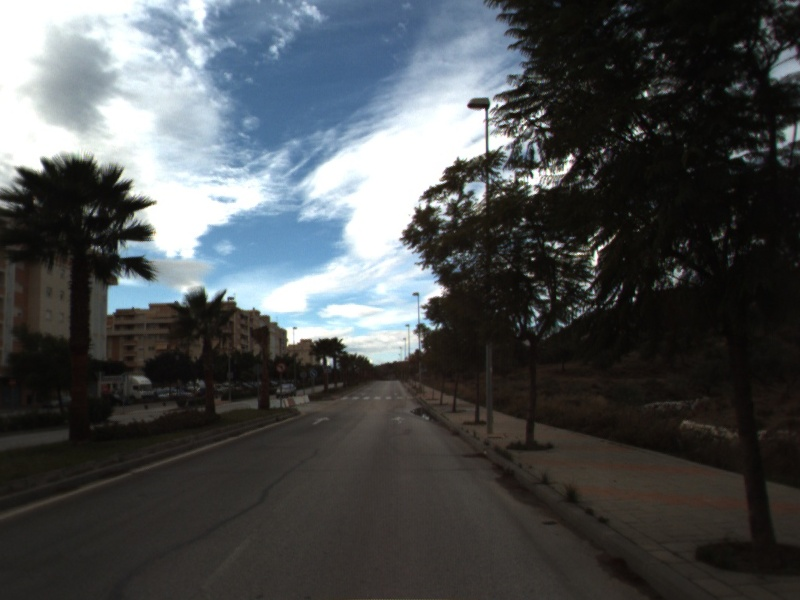STRAIGHT: (310, 414, 332, 426)
